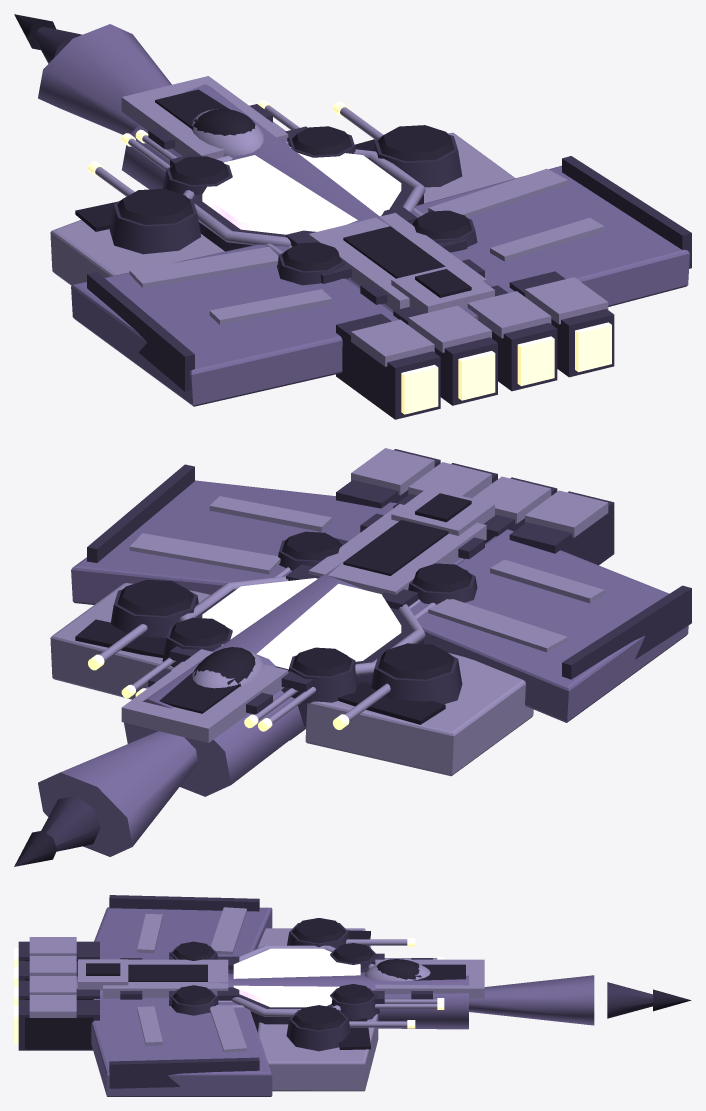
Rendered from aegis-dreadnought.glb.
3 views of the same model, one above another, from view 1: azimuth 30°, elevation 25°; view 2: azimuth 150°, elevation 25°; view 3: azimuth 270°, elevation 25° (orthographic). The views are drawn at different scales.
Visible parts, largest first — view 1: shoulder_slab_port, shoulder_slab_stbd, core_plasma, spine_prow, spine_hull, barbette_port, engine_block_0, dorsal_deck_aft, dorsal_deck_fwd, shoulder_slab_edge_port, shoulder_slab_edge_stbd, shoulder_slab_top_insert_port (+35 smaller); view 2: shoulder_slab_port, shoulder_slab_stbd, barbette_port, spine_prow, core_plasma, spine_hull, dorsal_deck_fwd, barbette_stbd, dorsal_deck_aft, shoulder_slab_edge_port, engine_block_0, dorsal_deck_aft_insert (+32 smaller); view 3: shoulder_slab_stbd, shoulder_slab_port, barbette_stbd, core_plasma, spine_prow, spine_hull, shoulder_slab_edge_stbd, dorsal_deck_aft, engine_insert_3, shoulder_slab_edge_port, dorsal_deck_fwd, dorsal_deck_aft_insert (+35 smaller).
Part boxes in pixels (x1=…): shoulder_slab_port: x1=71, y1=244, x2=398, y2=406; shoulder_slab_stbd: x1=412, y1=165, x2=689, y2=306; core_plasma: x1=202, y1=147, x2=401, y2=234; spine_prow: x1=38, y1=24, x2=171, y2=134; spine_hull: x1=122, y1=84, x2=477, y2=319; barbette_port: x1=50, y1=219, x2=224, y2=285; engine_block_0: x1=336, y1=313, x2=440, y2=419; dorsal_deck_aft: x1=308, y1=213, x2=486, y2=310; dorsal_deck_fwd: x1=121, y1=76, x2=288, y2=158; shoulder_slab_edge_port: x1=87, y1=272, x2=194, y2=391; shoulder_slab_edge_stbd: x1=562, y1=156, x2=691, y2=268; shoulder_slab_top_insert_port: x1=129, y1=246, x2=278, y2=287; shoulder_slab_port: x1=410, y1=529, x2=688, y2=722; shoulder_slab_stbd: x1=71, y1=480, x2=396, y2=604; barbette_port: x1=305, y1=652, x2=533, y2=776; spine_prow: x1=38, y1=731, x2=198, y2=856; core_plasma: x1=202, y1=578, x2=401, y2=669; spine_hull: x1=124, y1=496, x2=471, y2=796; dorsal_deck_fwd: x1=121, y1=649, x2=288, y2=742; barbette_stbd: x1=50, y1=583, x2=210, y2=699; dorsal_deck_aft: x1=308, y1=504, x2=486, y2=594; shoulder_slab_edge_port: x1=562, y1=585, x2=691, y2=679; engine_block_0: x1=509, y1=491, x2=614, y2=565; dorsal_deck_aft_insert: x1=343, y1=520, x2=448, y2=575; shoulder_slab_stbd: x1=91, y1=998, x2=272, y2=1096; shoulder_slab_port: x1=94, y1=907, x2=272, y2=959; barbette_stbd: x1=257, y1=1014, x2=378, y2=1091; core_plasma: x1=233, y1=948, x2=360, y2=1007; spine_prow: x1=469, y1=975, x2=594, y2=1025; spine_hull: x1=76, y1=972, x2=468, y2=1029; shoulder_slab_edge_stbd: x1=109, y1=1057, x2=259, y2=1088; dorsal_deck_aft: x1=103, y1=959, x2=228, y2=998; engine_insert_3: x1=25, y1=1017, x2=93, y2=1049; shoulder_slab_edge_port: x1=109, y1=895, x2=259, y2=911; dorsal_deck_fwd: x1=375, y1=959, x2=484, y2=998; dorsal_deck_aft_insert: x1=128, y1=964, x2=207, y2=981.
Size of the model in its own units: 36.72 by 6.84 by 62.
